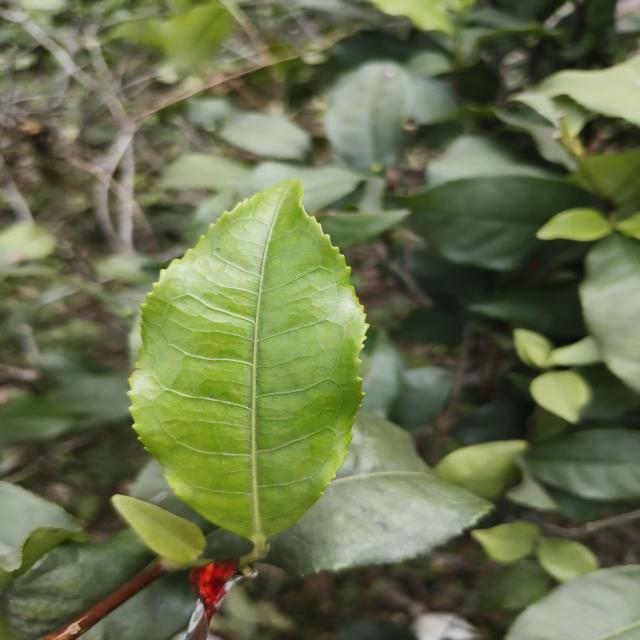Leaf: (130, 180, 366, 548), (266, 409, 493, 576), (405, 175, 596, 271), (134, 460, 251, 559), (504, 565, 640, 640), (579, 234, 640, 391), (324, 63, 409, 172), (526, 429, 640, 501), (534, 56, 640, 125), (112, 495, 206, 565), (433, 440, 528, 501), (220, 112, 311, 160), (390, 367, 453, 431), (360, 328, 404, 418), (478, 560, 551, 610), (530, 371, 591, 423), (471, 521, 539, 564), (536, 538, 599, 582), (536, 208, 612, 241), (0, 222, 56, 266)
